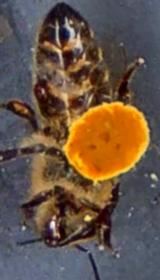varroa_mite: (26, 74, 56, 109)
